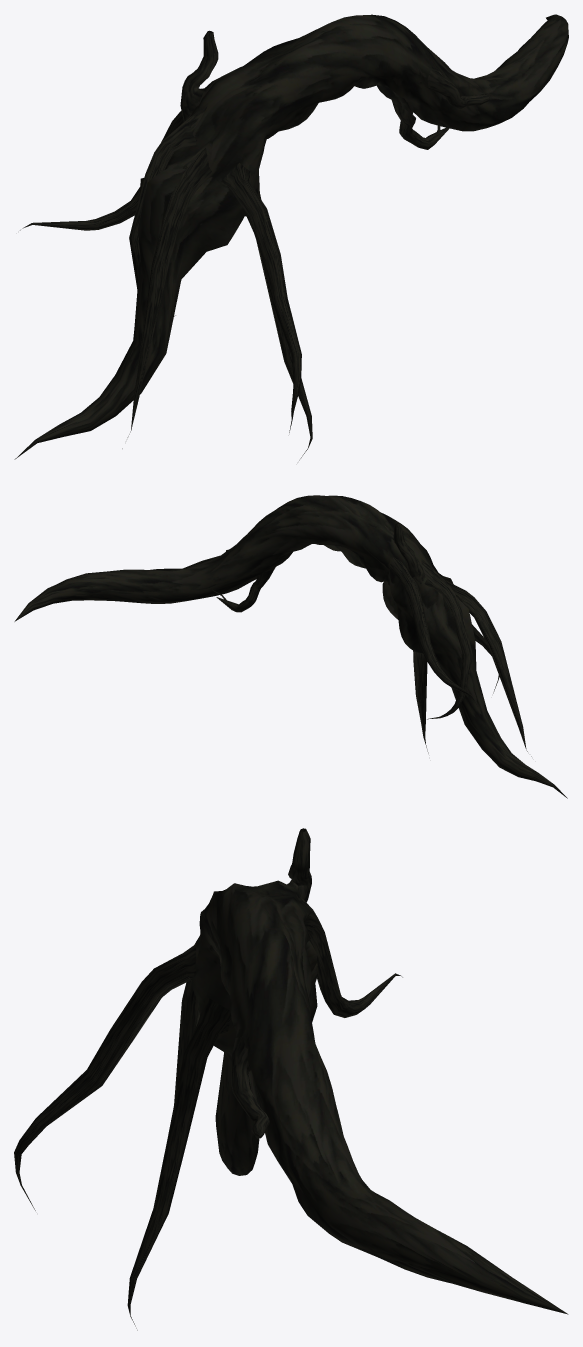
3 renders of one model, top to bottom at view 1: azimuth 30°, elevation 25°; view 2: azimuth 150°, elevation 25°; view 3: azimuth 270°, elevation 25°, orthographic. The views are drawn at different scales.
Visible parts, largest first — view 1: SM_SwampVines_06_LOD0; view 2: SM_SwampVines_06_LOD0; view 3: SM_SwampVines_06_LOD0.
Boxes of the visible parts, left/top/right/bottom form: SM_SwampVines_06_LOD0: left=14, top=14, right=568, bottom=460; SM_SwampVines_06_LOD0: left=14, top=495, right=567, bottom=798; SM_SwampVines_06_LOD0: left=14, top=828, right=568, bottom=1330.
Size of the model in its own units: 4.12 by 2.33 by 2.39.
Materials: 1 (1 with a texture image).
